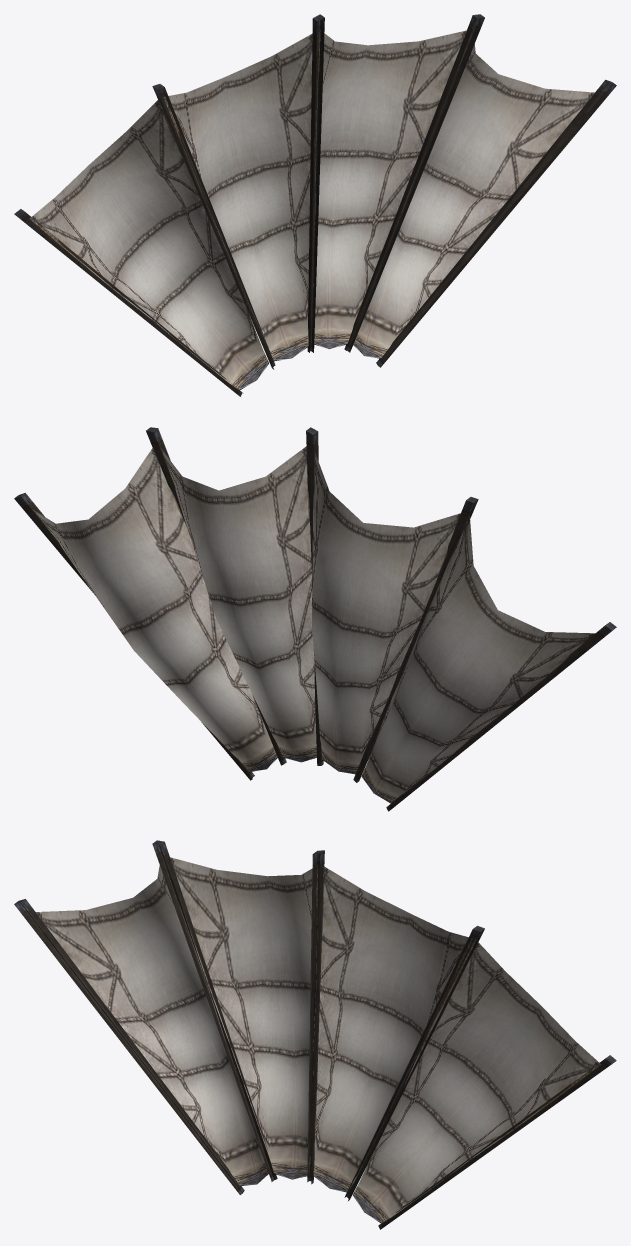
Rendered from SM_EN_1002_chibang01.FBX.
The picture shows the model from 3 angles, top to bottom: view 1: azimuth 30°, elevation 25°; view 2: azimuth 150°, elevation 25°; view 3: azimuth 330°, elevation 25°; orthographic projection.
Parts seen in each view (by area): view 1: SM_EN_1002_chibang01; view 2: SM_EN_1002_chibang01; view 3: SM_EN_1002_chibang01.
Boxes of the visible parts, x1,y1,x2,y2 form: SM_EN_1002_chibang01: (14, 14, 616, 396); SM_EN_1002_chibang01: (14, 427, 616, 811); SM_EN_1002_chibang01: (14, 840, 616, 1229).
Size of the model in its own units: 775 by 452 by 63.53.
